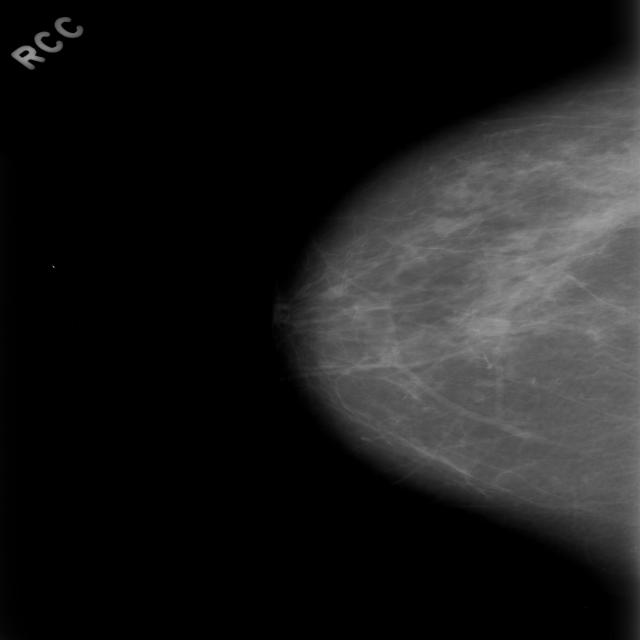normal: (276, 71, 640, 562)
